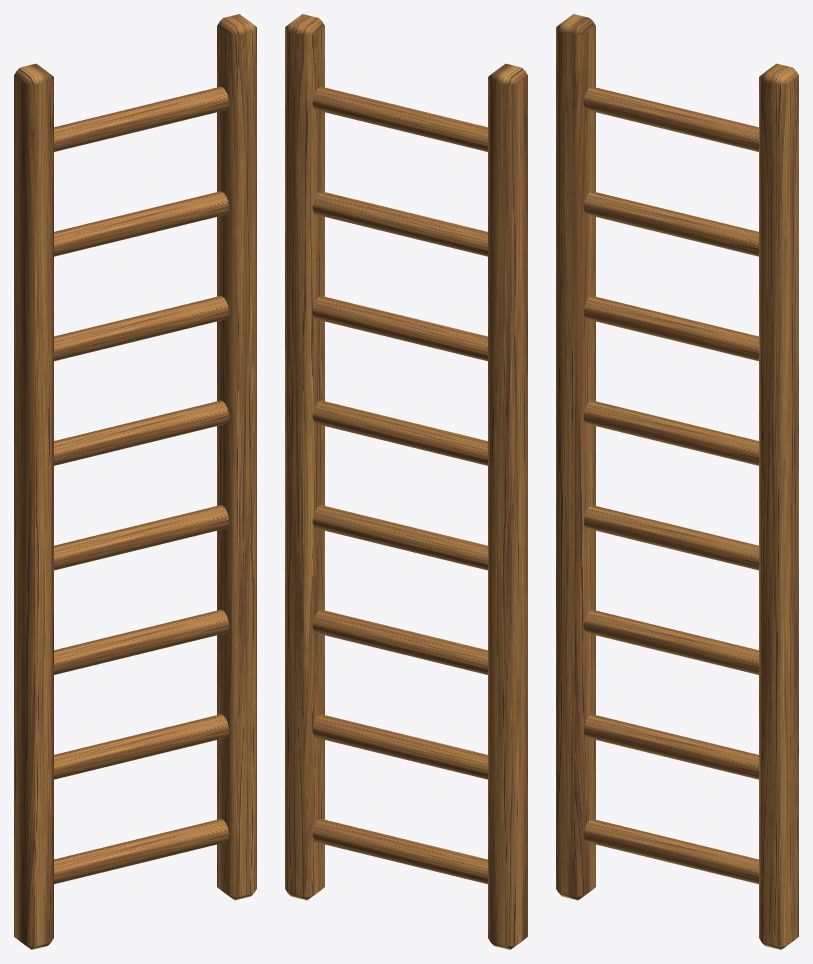
File: 28_Escalera.obj
3 renders of one model, left to right at view 1: azimuth 30°, elevation 25°; view 2: azimuth 150°, elevation 25°; view 3: azimuth 330°, elevation 25°, orthographic.
Parts seen in each view (by area): view 1: 28_Escalera_Wood; view 2: 28_Escalera_Wood; view 3: 28_Escalera_Wood.
Boxes of the visible parts, x1,y1,x2,y2 form: 28_Escalera_Wood: [14, 14, 256, 949]; 28_Escalera_Wood: [285, 14, 527, 949]; 28_Escalera_Wood: [556, 14, 798, 949].
Bounding box in the file's own units: 0.615 × 2.22 × 0.085.
Materials: 1 (1 with a texture image).
